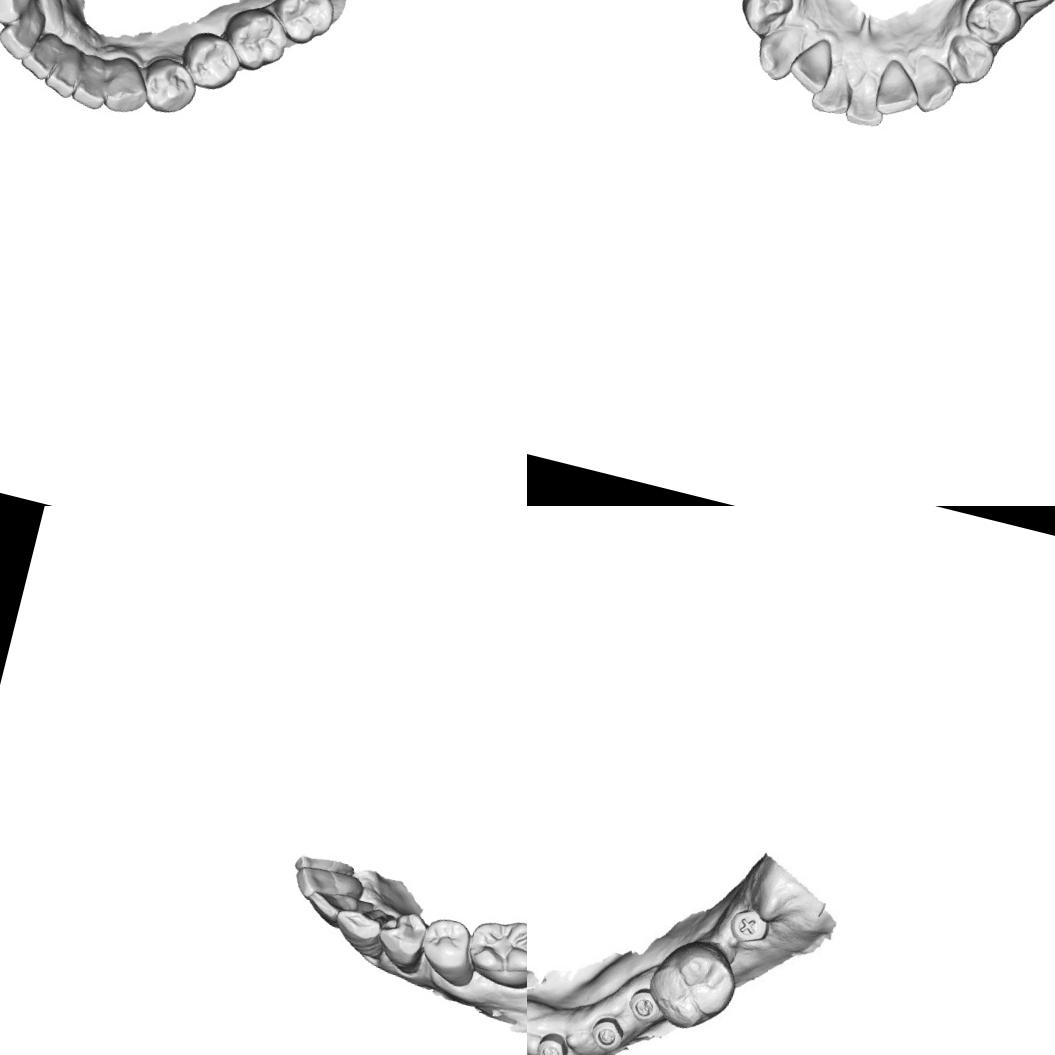canine: (327, 897, 394, 962), (98, 53, 156, 118), (904, 52, 960, 117), (751, 21, 804, 84), (0, 0, 44, 31)
implant: (622, 986, 667, 1030), (591, 1016, 623, 1051), (534, 1030, 572, 1055)
implant_plus: (726, 906, 772, 950)
incisor: (300, 883, 377, 936), (290, 860, 366, 912), (871, 56, 926, 121), (784, 31, 838, 96), (842, 68, 893, 130), (808, 58, 858, 118), (0, 0, 47, 63), (40, 40, 87, 100), (69, 53, 114, 112), (17, 26, 64, 82)
molar: (644, 931, 742, 1038), (215, 0, 294, 78), (459, 907, 527, 995), (266, 0, 340, 50)
premolar: (413, 912, 485, 989), (174, 26, 245, 95), (136, 51, 202, 121), (370, 904, 432, 976), (940, 30, 997, 90), (960, 0, 1026, 50), (733, 0, 796, 41)
